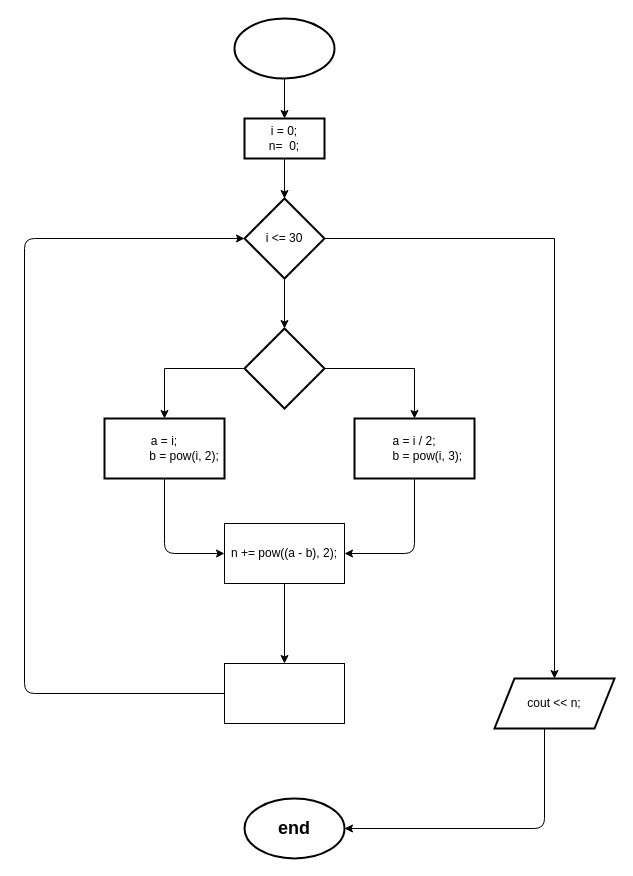
Image size: 633x876. Some labels were removed from this diagram. Each missing label, with the centre of its shape:
i % 2 == 0: pixel 284 368
i++;: pixel 284 693
start: pixel 284 48
